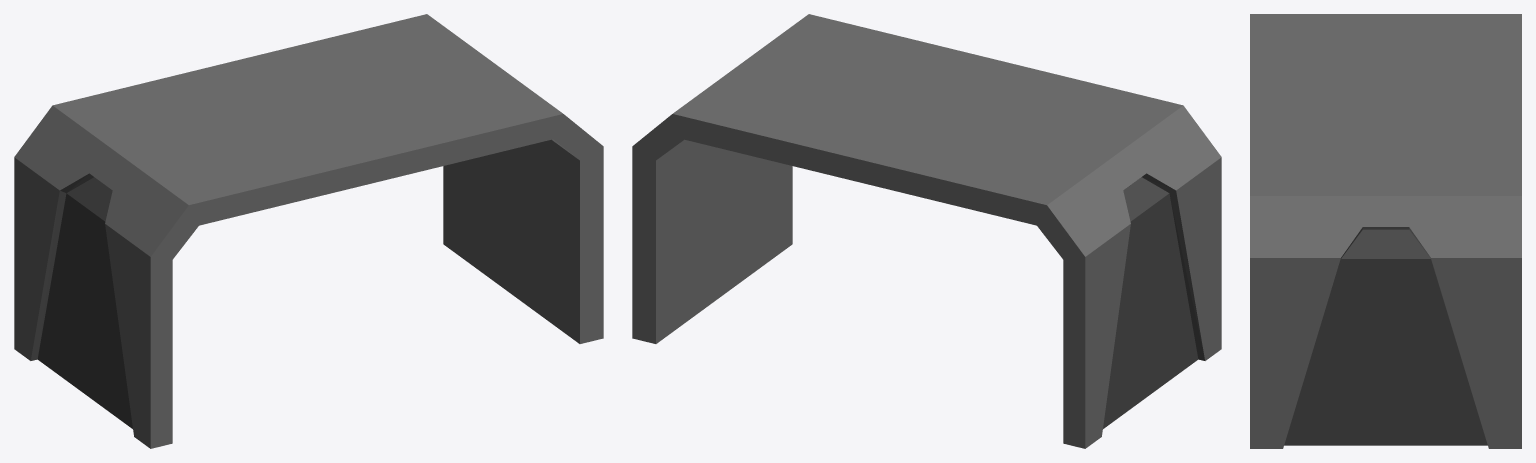
File: table_D.FBX
3 renders of one model, left to right at view 1: azimuth 30°, elevation 25°; view 2: azimuth 150°, elevation 25°; view 3: azimuth 270°, elevation 25°, orthographic.
Parts seen in each view (by area): view 1: table_D; view 2: table_D; view 3: table_D.
Boxes of the visible parts, x1=… form: table_D: x1=14, y1=14, x2=603, y2=448; table_D: x1=632, y1=14, x2=1221, y2=448; table_D: x1=1250, y1=14, x2=1521, y2=448.
Bounding box in the file's own units: 86.34 × 42.68 × 45.03.
